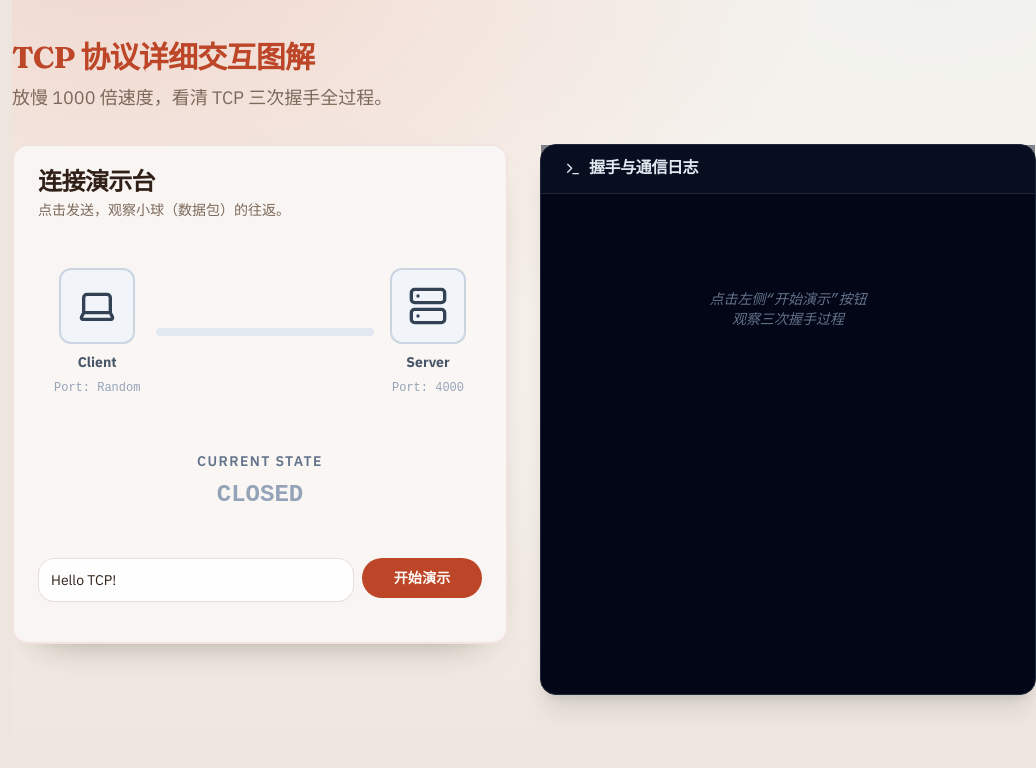
Scenario: TcpLabPage › renders page and runs a demo flow
expect the heading "TCP 协议详细交互图解" is shown: met, box [12,39,314,76]
Click the button "开始演示".
click(422, 578)  # box [362,558,482,598]
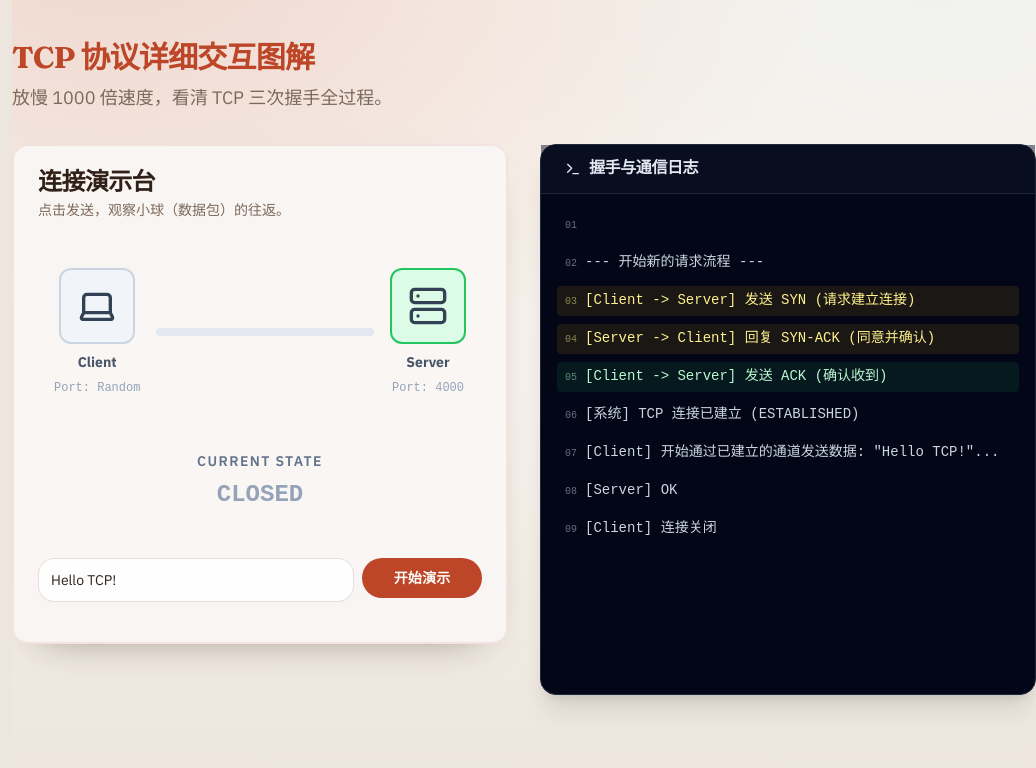
expect the text "[Server] OK" is shown: met, box [585,482,677,498]
